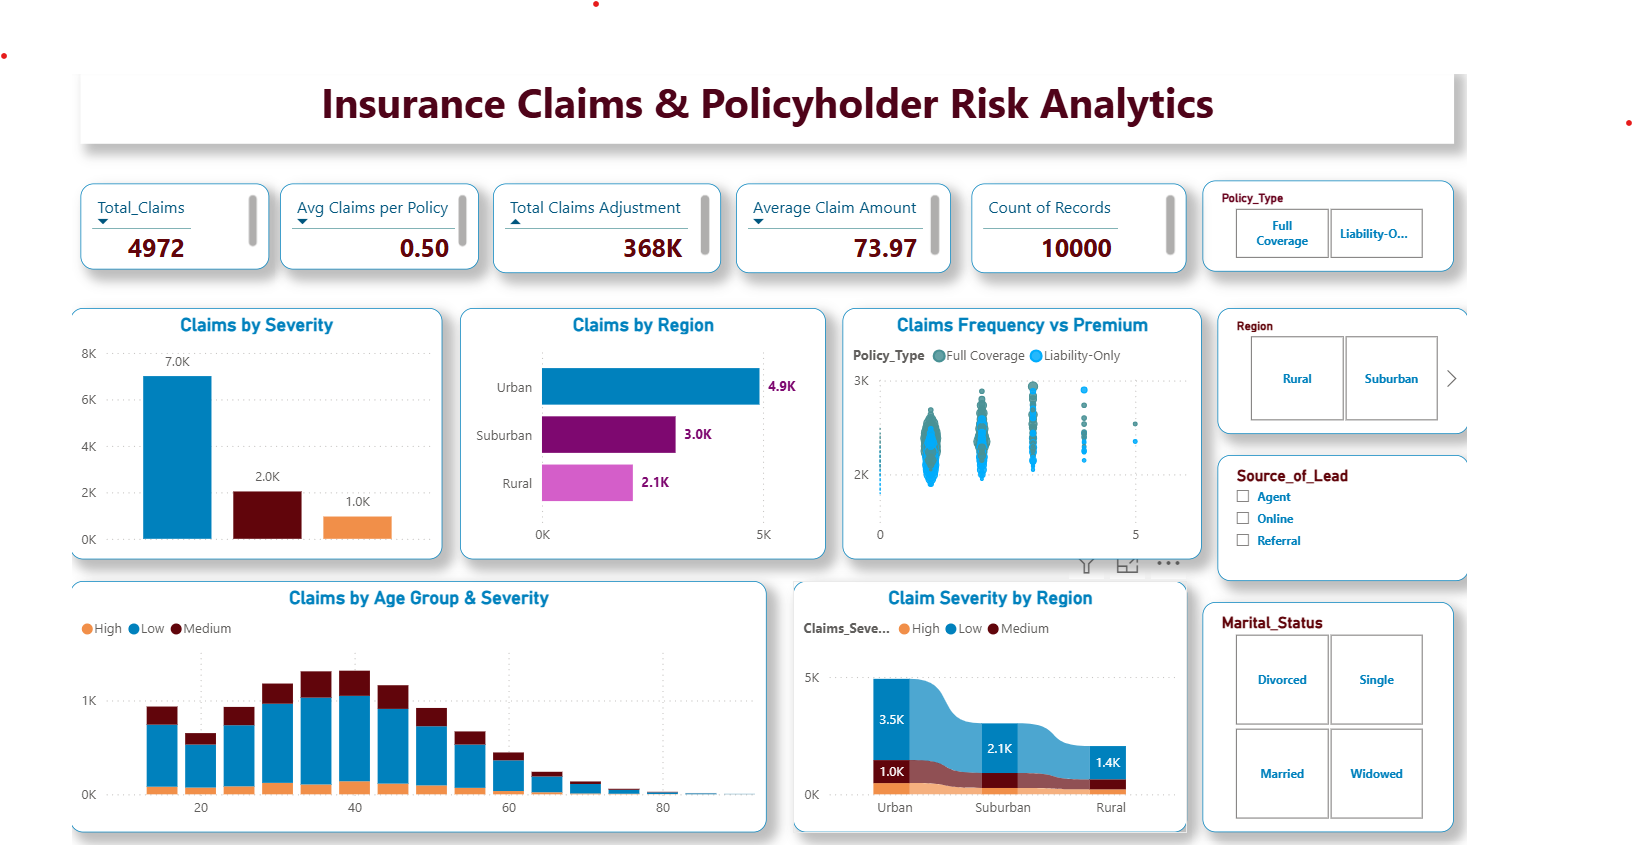

This screenshot's page, from the dashboard's own definition file:
{"tool":"powerbi","page":{"name":"Claims & Risk Overview","canvas":[1280,720],"ordinal":0},"visuals":[{"type":"textbox","box":[9.1,0,1256.8,69.7],"z":0},{"type":"tableEx","fields":{"Values":["Sum(synthetic_insurance_data.Claims_Frequency)"]},"box":[9.1,106,172.6,78.7],"z":1000},{"type":"tableEx","fields":{"Values":["Avg(synthetic_insurance_data.Claims_Frequency)"]},"box":[192.3,106,181.7,78.7],"z":2000},{"type":"columnChart","title":"Claims by Severity","fields":{"Category":["synthetic_insurance_data.Claims_Severity"],"Y":["CountNonNull(synthetic_insurance_data.Index)"]},"box":[0,219.6,340.7,230.2],"z":3000},{"type":"columnChart","title":"Claims by Age Group & Severity","fields":{"Category":["synthetic_insurance_data.Age (bins)"],"Series":["synthetic_insurance_data.Claims_Severity"],"Y":["CountNonNull(synthetic_insurance_data.Index)"]},"box":[0,469.4,637.5,230.2],"z":4000},{"type":"clusteredBarChart","title":"Claims by Region","fields":{"Category":["synthetic_insurance_data.Region"],"Y":["CountNonNull(synthetic_insurance_data.Index)"]},"box":[357.4,219.6,334.6,230.2],"z":5000},{"type":"ribbonChart","title":"Claim Severity by Region","fields":{"Category":["synthetic_insurance_data.Region"],"Series":["synthetic_insurance_data.Claims_Severity"],"Y":["CountNonNull(synthetic_insurance_data.Index)"]},"box":[661.7,469.4,360.4,230.2],"z":6000},{"type":"tableEx","fields":{"Values":["Sum(synthetic_insurance_data.Claims_Adjustment)"]},"box":[387.6,106,209,81.8],"z":7000},{"type":"scatterChart","title":"Claims Frequency vs Premium","fields":{"Series":["synthetic_insurance_data.Policy_Type"],"Size":["Sum(synthetic_insurance_data.Claims_Adjustment)"],"X":["synthetic_insurance_data.Claims_Frequency"],"Y":["synthetic_insurance_data.Premium_Amount"]},"box":[707.1,219.6,328.6,230.2],"z":8000},{"type":"slicer","fields":{"Values":["synthetic_insurance_data.Policy_Type"]},"box":[1035.7,103,230.2,83.3],"z":9000},{"type":"slicer","fields":{"Values":["synthetic_insurance_data.Region"]},"box":[1049.3,219.6,230.2,115.1],"z":10000},{"type":"slicer","fields":{"Values":["synthetic_insurance_data.Marital_Status"]},"box":[1035.7,489.1,230.2,210.5],"z":11000},{"type":"slicer","fields":{"Values":["synthetic_insurance_data.Source_of_Lead"]},"box":[1049.3,354.3,230.2,115.1],"z":12000},{"type":"tableEx","fields":{"Values":["synthetic_insurance_data.Average Claim Amount"]},"box":[608.7,106,196.8,81.8],"z":13000},{"type":"tableEx","fields":{"Values":["synthetic_insurance_data.Count of Records"]},"box":[825.2,106,196.8,81.8],"z":14000}]}

Visuals, with their boxes on the page's 1280x720 design canvas (x1, y1, x2, y2). These are canvas units, not pixel positions in the 1632x845 screenshot, which may show the page scaled, cropped or inside an application window:
textbox: 9:0:1266:70
tableEx - Sum(synthetic_insurance_data.Claims_Frequency): 9:106:182:185
tableEx - Avg(synthetic_insurance_data.Claims_Frequency): 192:106:374:185
"Claims by Severity" columnChart: 0:220:341:450
"Claims by Age Group & Severity" columnChart: 0:469:638:700
"Claims by Region" clusteredBarChart: 357:220:692:450
"Claim Severity by Region" ribbonChart: 662:469:1022:700
tableEx - Sum(synthetic_insurance_data.Claims_Adjustment): 388:106:597:188
"Claims Frequency vs Premium" scatterChart: 707:220:1036:450
slicer - synthetic_insurance_data.Policy_Type: 1036:103:1266:186
slicer - synthetic_insurance_data.Region: 1049:220:1280:335
slicer - synthetic_insurance_data.Marital_Status: 1036:489:1266:700
slicer - synthetic_insurance_data.Source_of_Lead: 1049:354:1280:469
tableEx - synthetic_insurance_data.Average Claim Amount: 609:106:806:188
tableEx - synthetic_insurance_data.Count of Records: 825:106:1022:188
